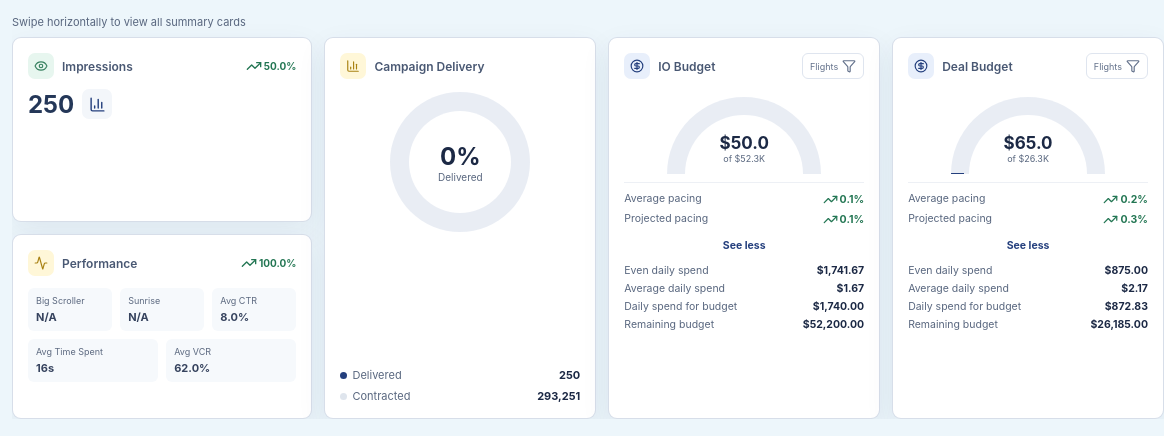
SummaryCards › announces trend direction and exposes budget disclosure state
The image size is (1164, 436).
Click the button "See less" below "$52.3K" at {"x": 744, "y": 246}, box [624,235,864,256]
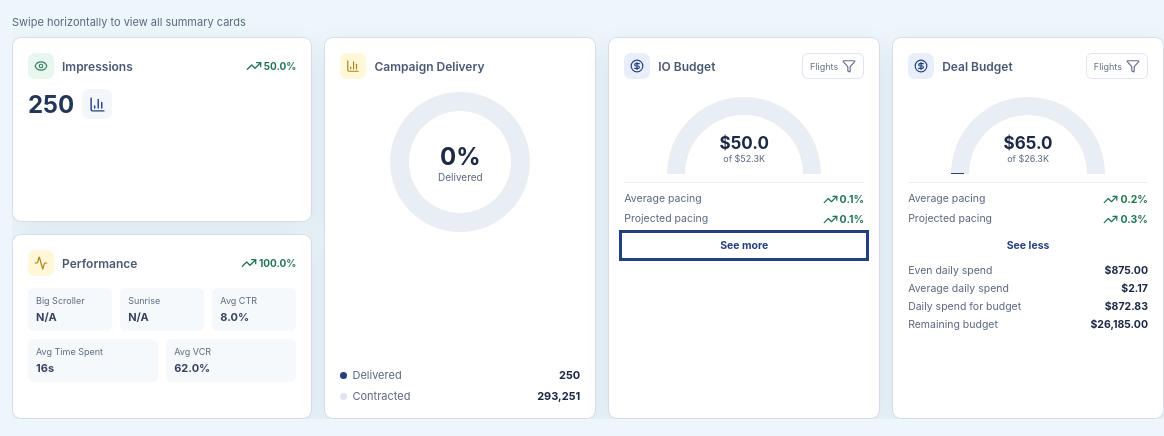
Now the button "See more" is collapsed, box [624,235,864,256]
Now the element with id "io-budget-details" is gone
